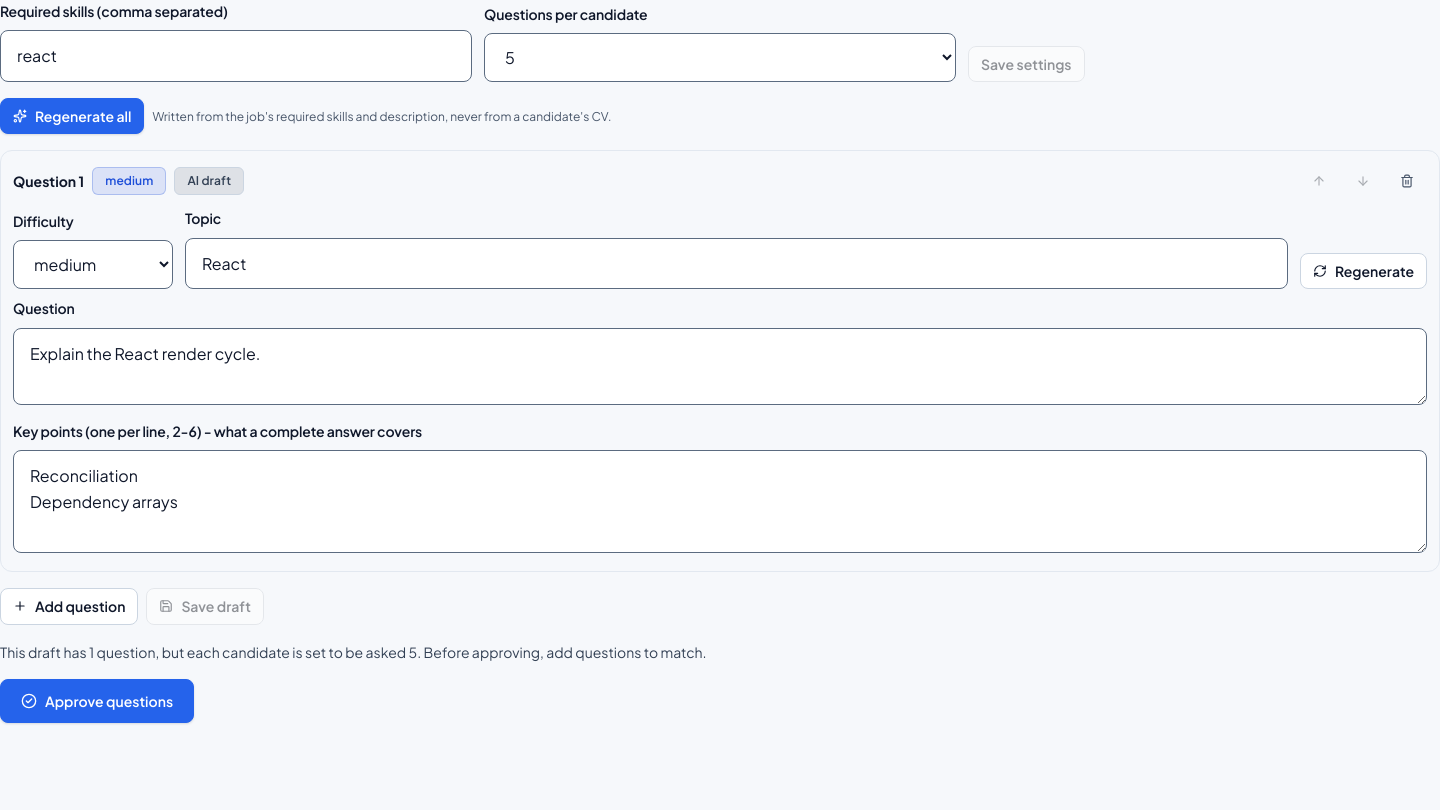
Test case: approving › cancelling approves nothing
Click the button "Approve questions": (97, 701) 0,679 -> 194,724
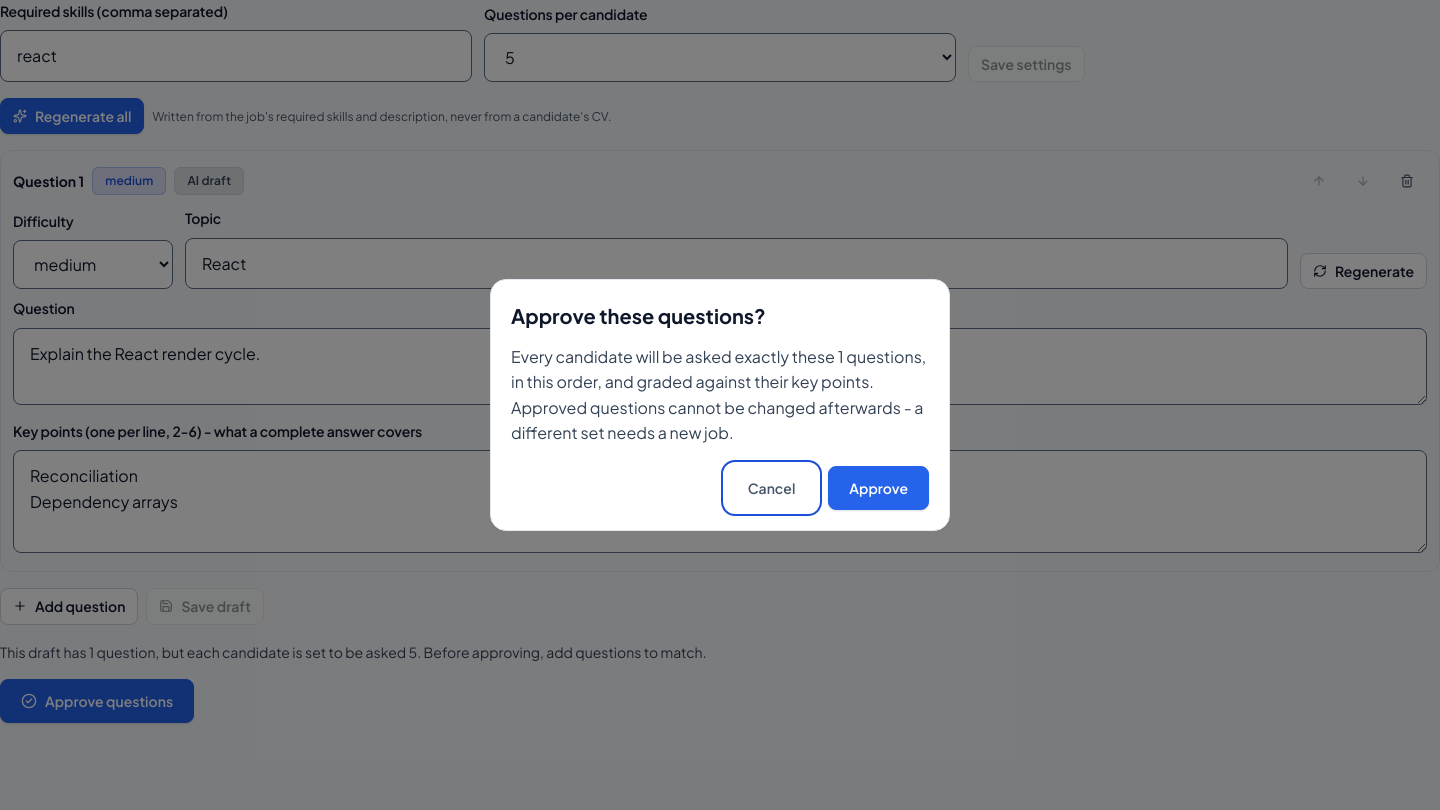
Click the button "Cancel": (772, 488) 727,466 -> 816,510
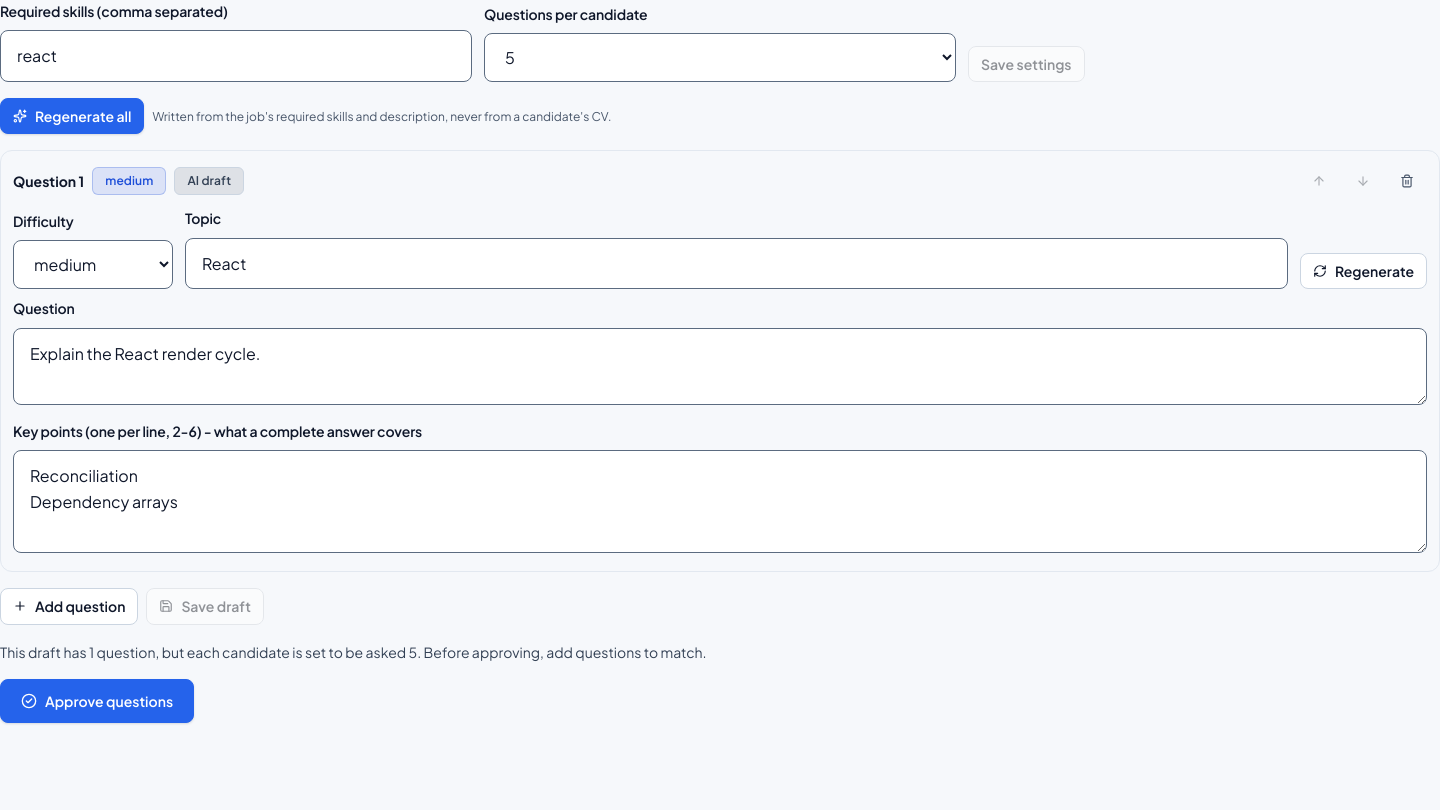
expect the dialog is gone: met
